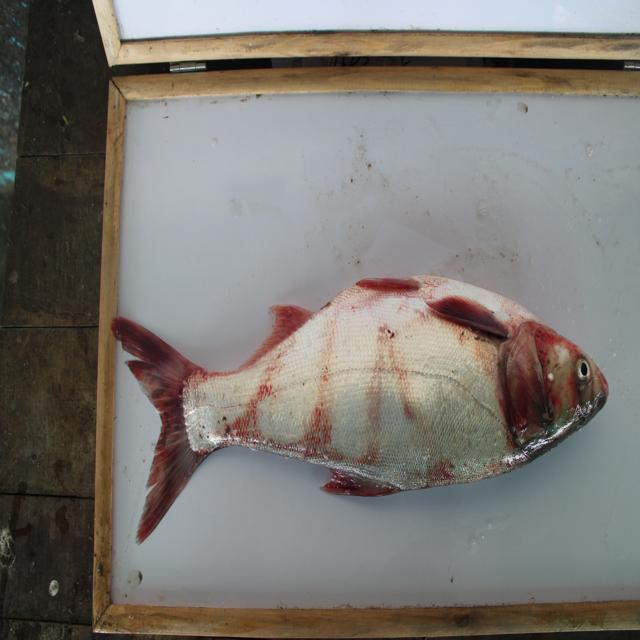SilverCarp: (100, 266, 613, 555)
